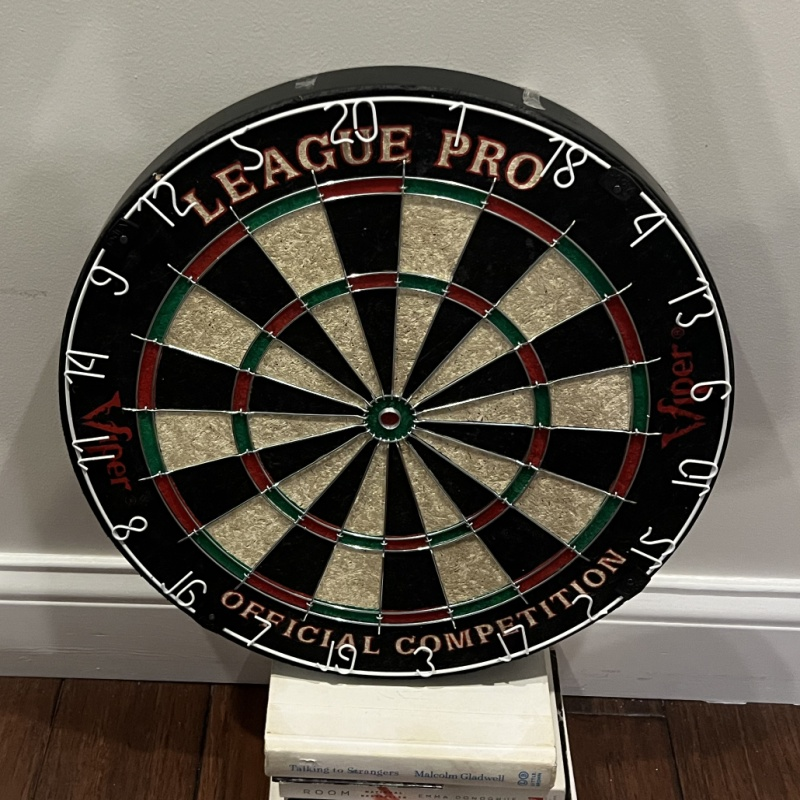eleven: (70, 433, 119, 472)
six: (686, 378, 738, 403)
three: (409, 645, 441, 678)
twenty: (325, 98, 384, 146)
